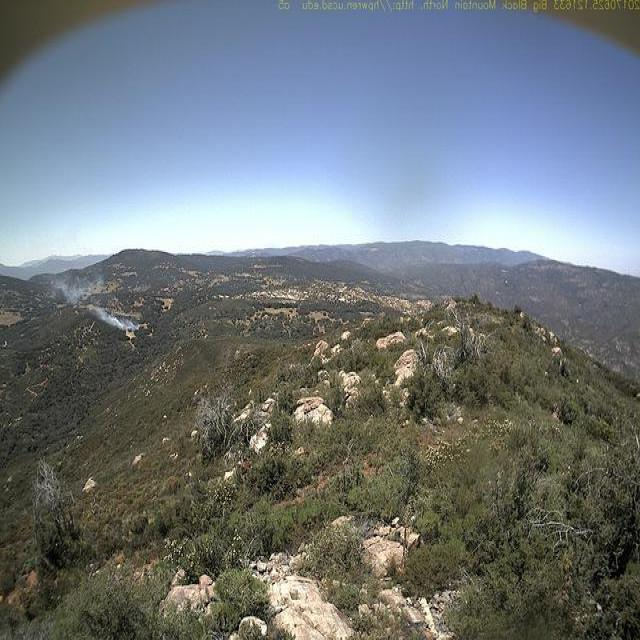Smoke: (55, 273, 143, 331)
